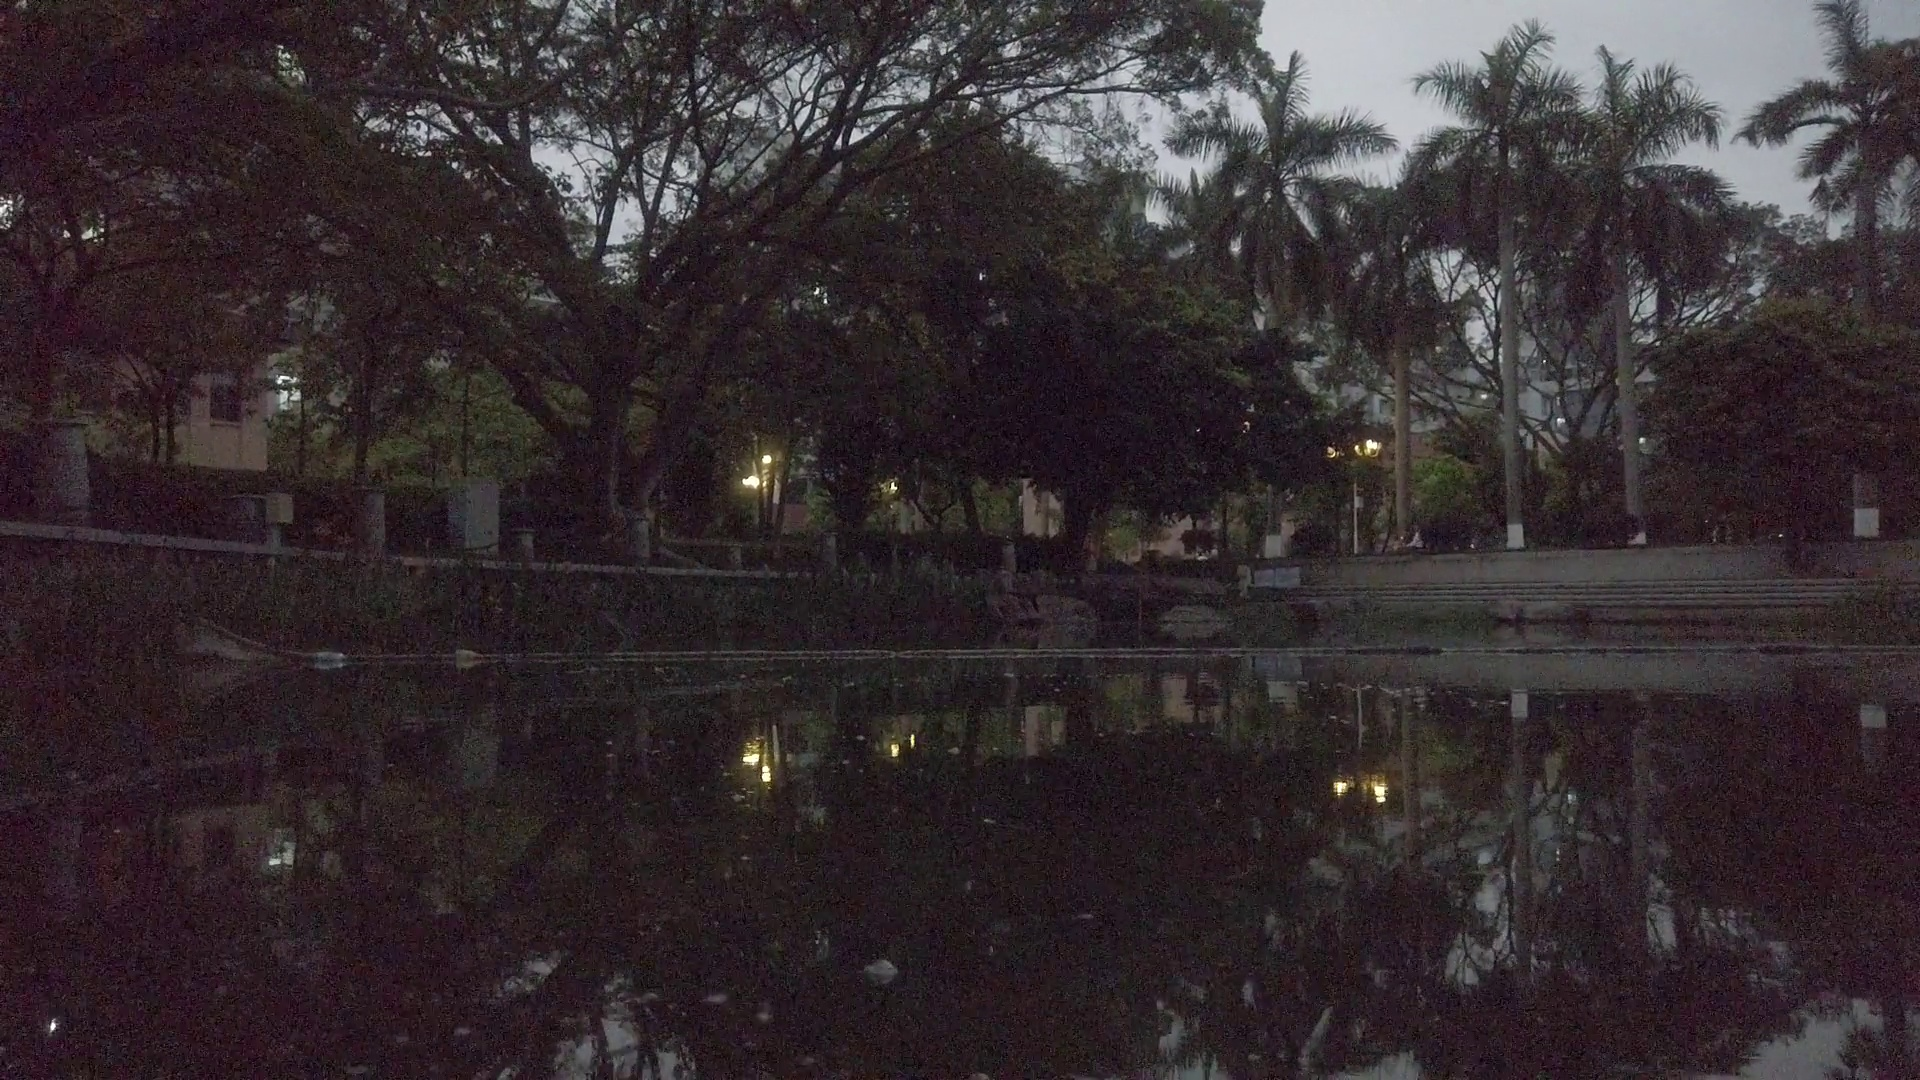bottle: (313, 651, 349, 669), (455, 650, 484, 663)
